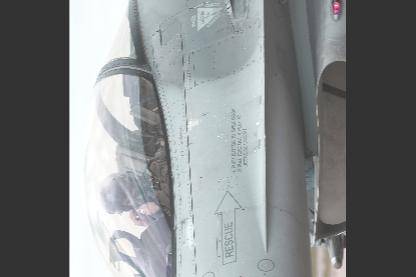F14: (78, 0, 346, 275)
